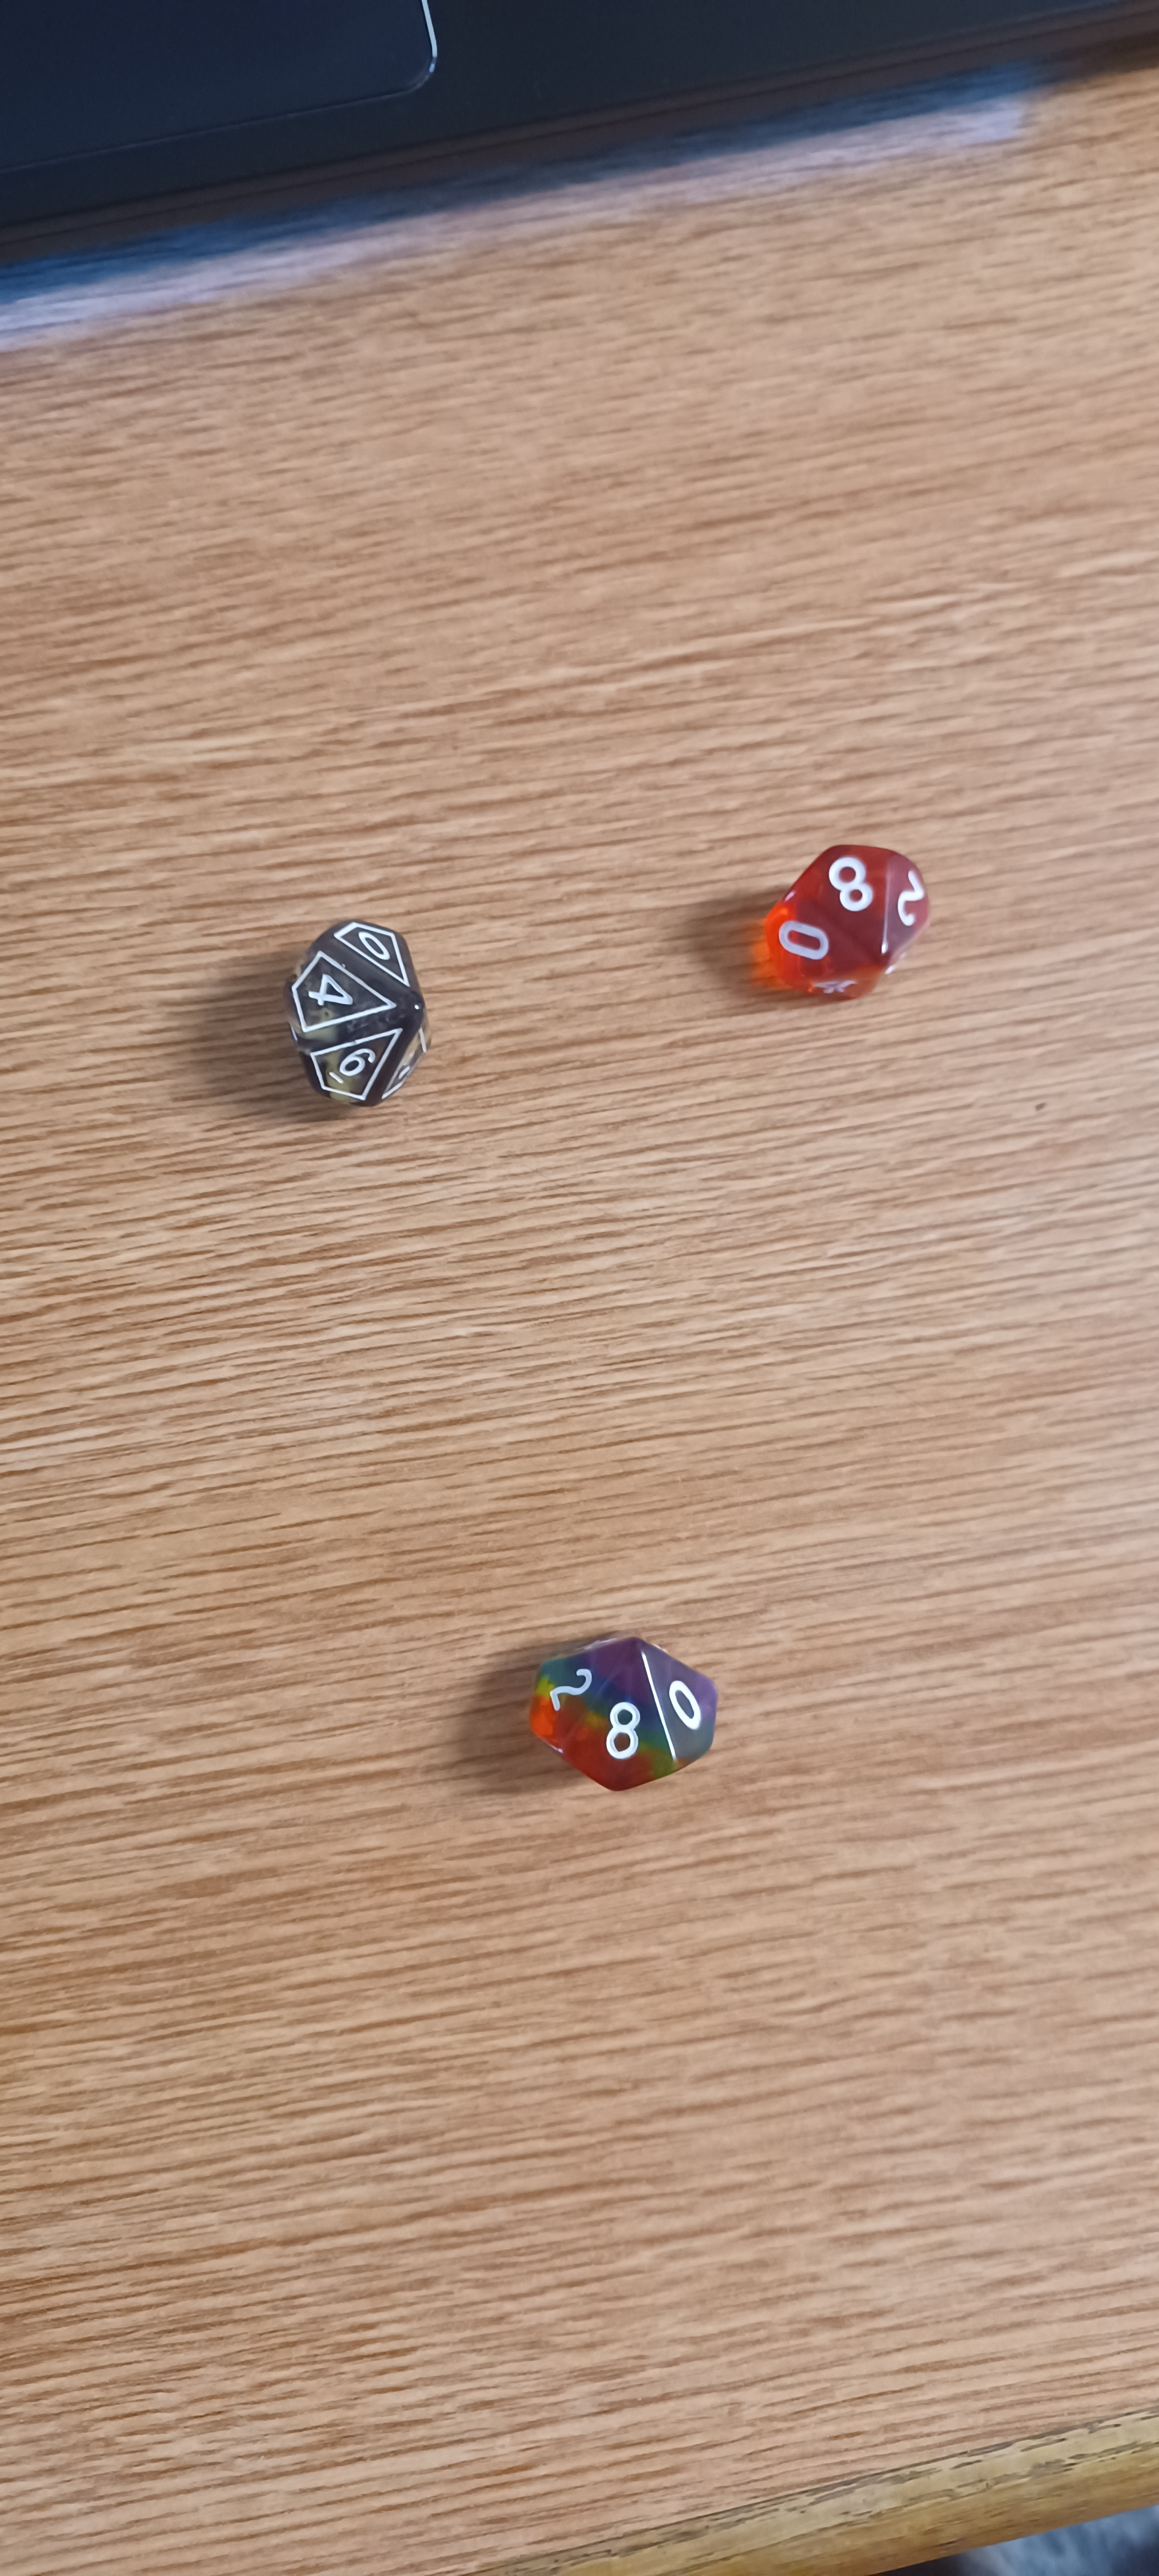eight: (717, 816, 983, 1022), (511, 1610, 760, 1819)
four: (251, 884, 466, 1125)
